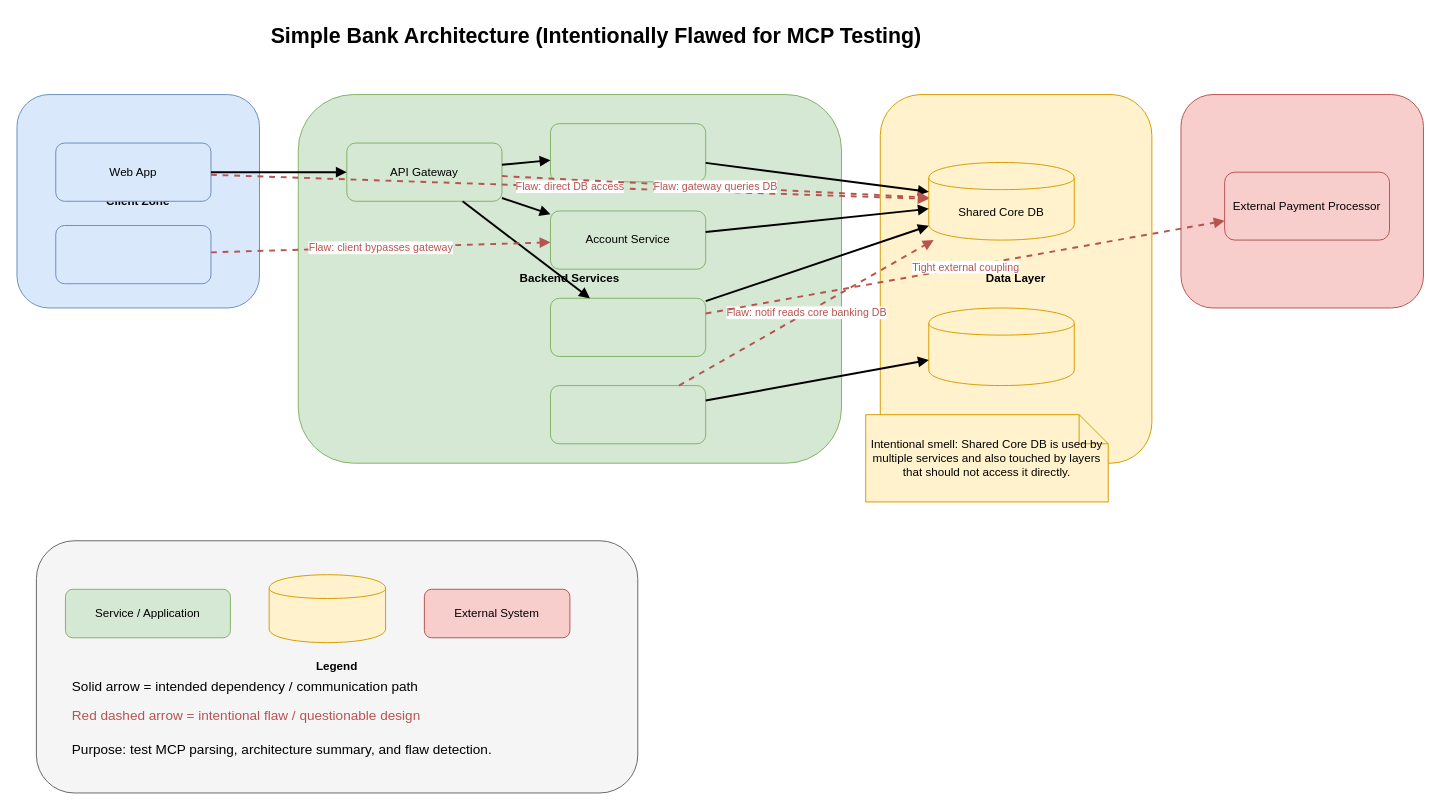
This 1440x810 diagram has some shape labels left out. Each missing label, with the centre of its shape:
Audit Logs DB: point 1001,346
Auth Service: point 628,152
Database: point 327,608
Mobile App: point 133,254
Notification Service: point 628,414
Transfer Service: point 628,326
